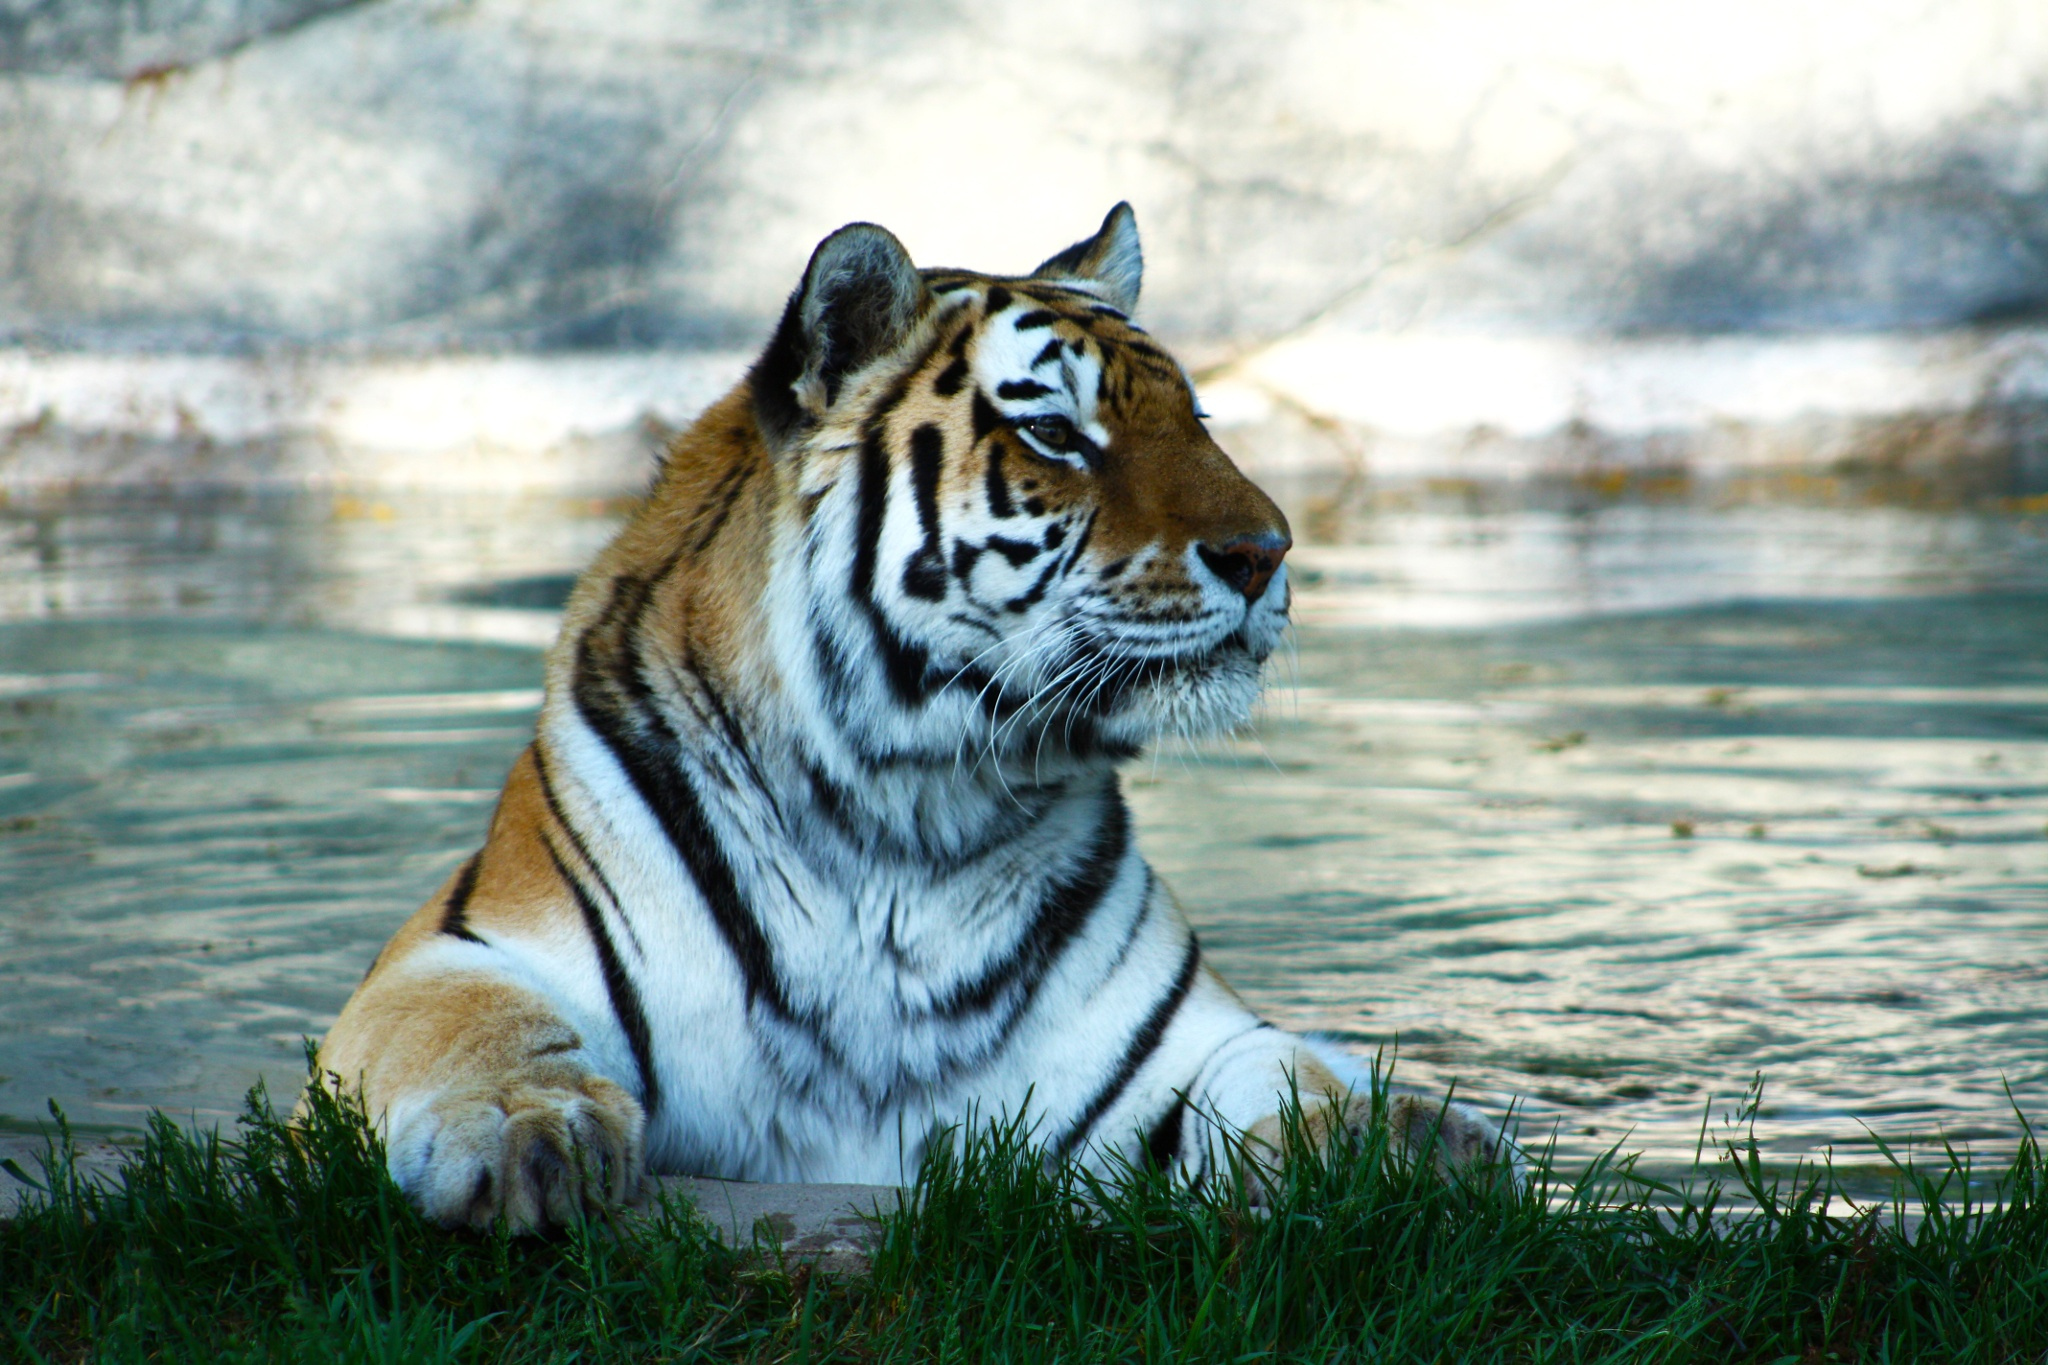tiger: (368, 192, 1555, 1252)
